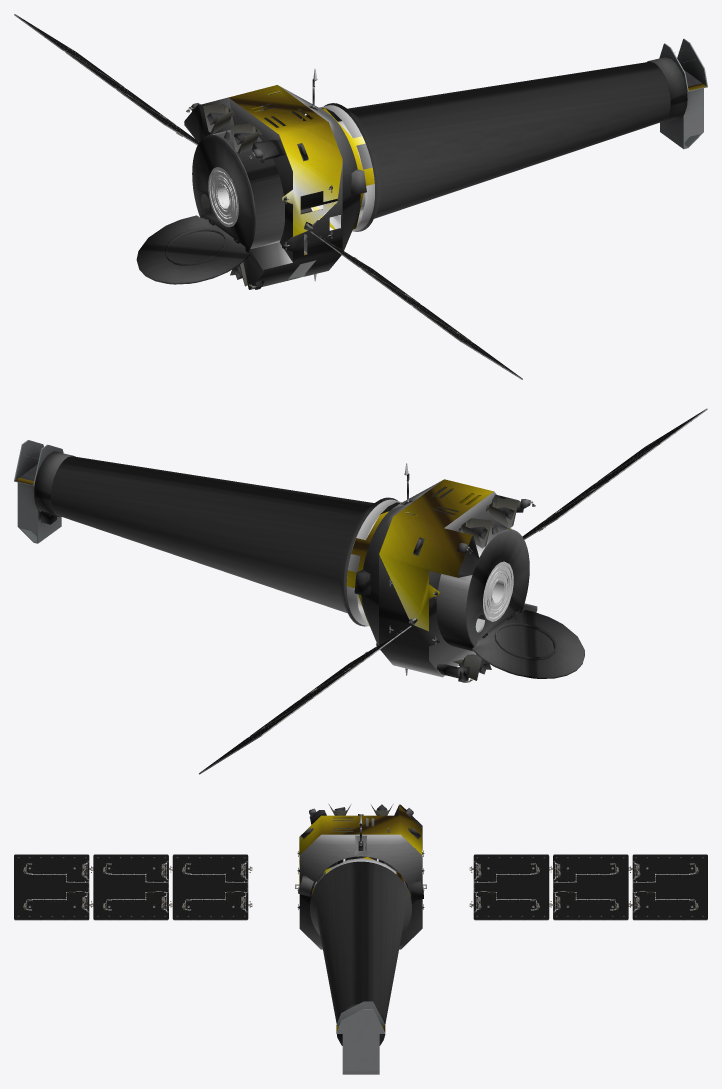
The model's file is telescope.glb.
The picture shows the model from 3 angles, top to bottom: view 1: azimuth 30°, elevation 25°; view 2: azimuth 150°, elevation 25°; view 3: azimuth 270°, elevation 25°; orthographic projection. The views are drawn at different scales.
Visible parts, largest first — view 1: foil_silver, shiny_panel, foil_gold, AO_HRMA; view 2: foil_silver, foil_gold, shiny_panel, AO_HRMA; view 3: shiny_panel, foil_silver, foil_gold.
Part boxes in pixels (x1,y1,x2,y2): foil_silver: (136,57,687,289); shiny_panel: (14,14,707,379); foil_gold: (206,83,706,254); AO_HRMA: (208,121,374,227); foil_silver: (34,451,584,682); foil_gold: (15,478,511,665); shiny_panel: (14,408,707,774); AO_HRMA: (346,517,513,621); shiny_panel: (14,804,707,1074); foil_silver: (297,804,424,1045); foil_gold: (299,805,422,1032).
Size of the model in its own units: 13.78 by 5.12 by 19.51.
4 materials, 3 textured.
